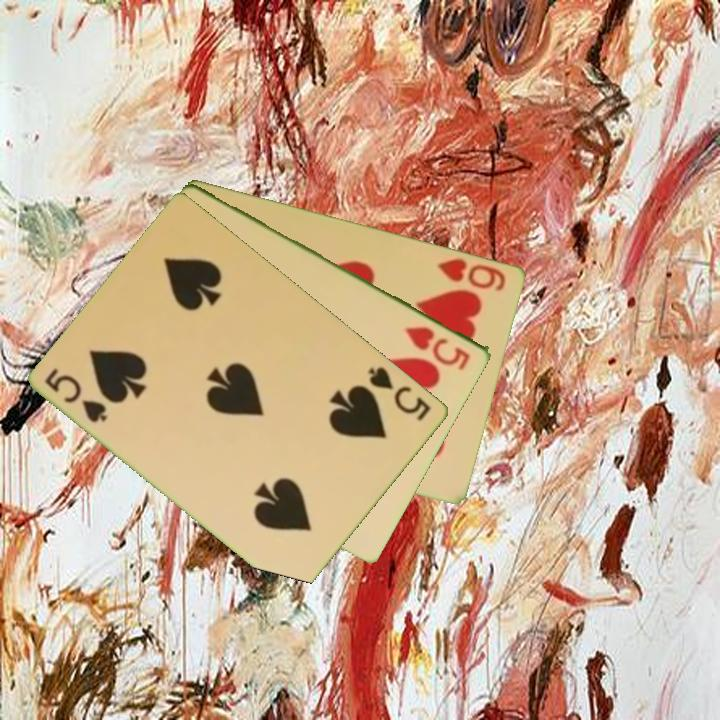5h: (402, 322, 474, 373)
5s: (41, 364, 112, 426), (365, 362, 434, 424)
6h: (434, 254, 509, 294)
